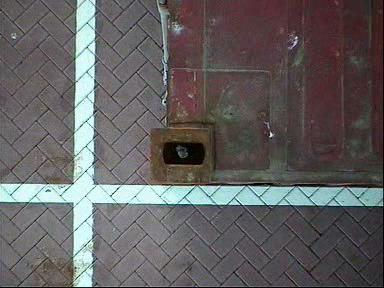groundmarker_2: (189, 26, 232, 89)
